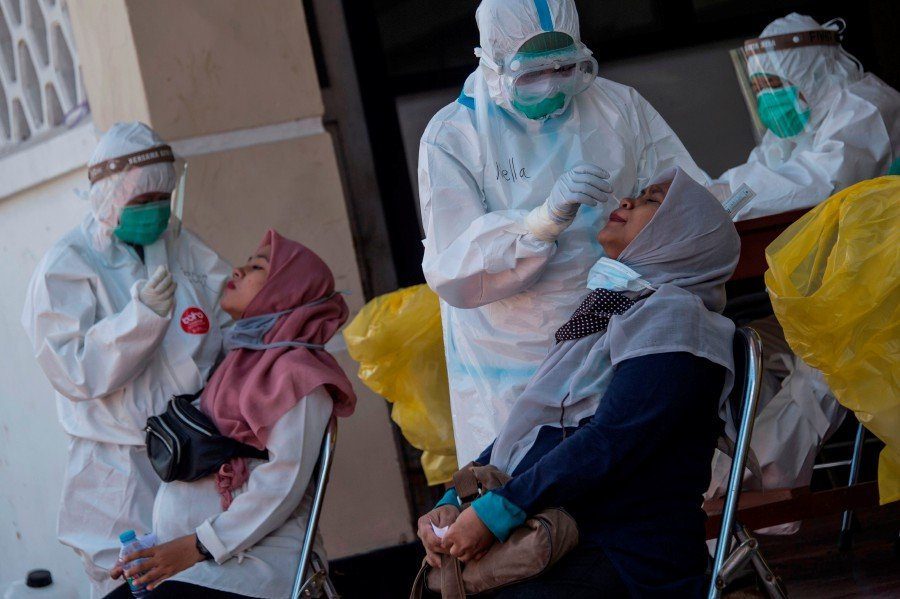Coverall: (415, 1, 722, 514), (24, 228, 230, 593)
Face_Shield: (725, 34, 834, 158), (87, 140, 186, 265)
Gloves: (537, 154, 617, 245), (136, 263, 185, 322)
Goggles: (506, 41, 604, 105)
mask_weared_incorrect: (584, 177, 675, 291), (217, 249, 273, 354)
with_mask: (113, 188, 180, 249), (751, 69, 806, 141), (516, 62, 568, 123)
